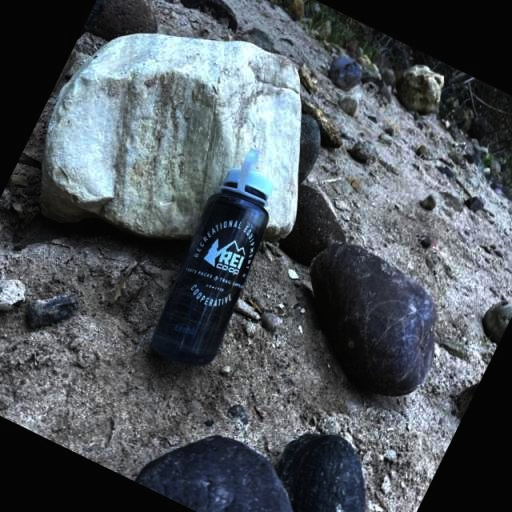bottle: (134, 138, 306, 380)
